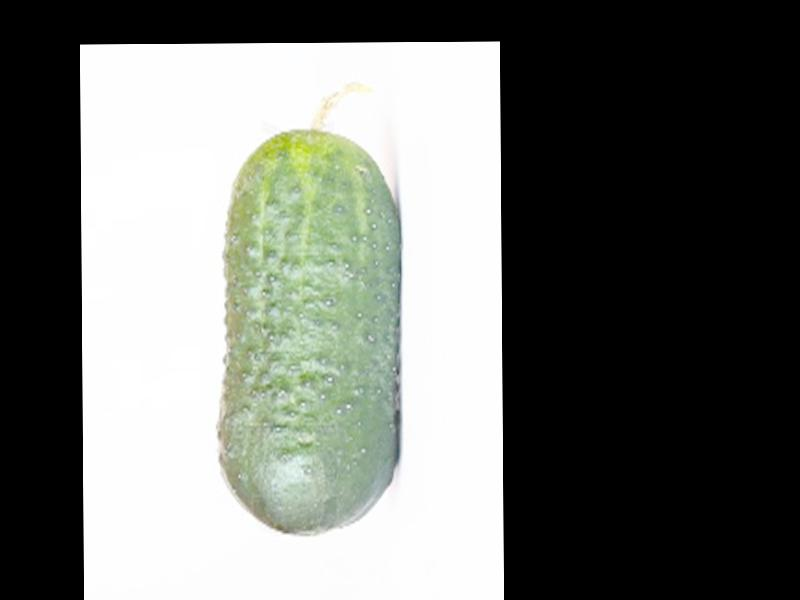Cucumber: (211, 81, 403, 534)
